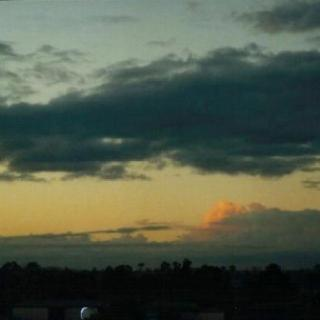Stratocumulus: (0, 0, 320, 258)
